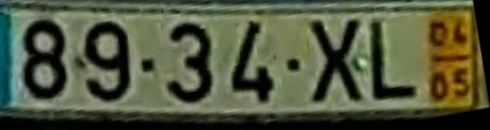3: (164, 18, 216, 108)
4: (226, 19, 277, 107)
8: (20, 16, 70, 102)
9: (81, 18, 134, 106)
L: (368, 17, 420, 104)
X: (306, 17, 367, 107)
